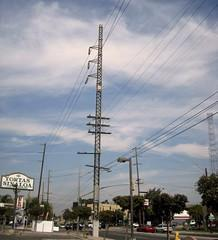power_tower: (73, 16, 114, 233)
